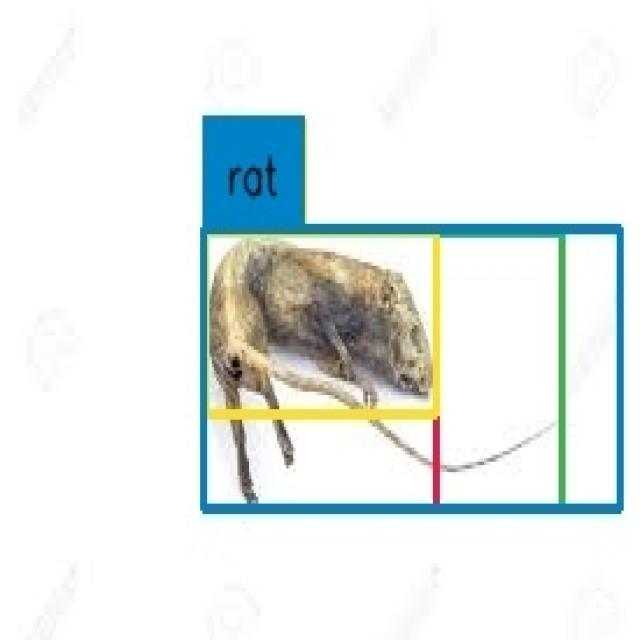rat: (203, 230, 619, 510), (202, 232, 561, 509), (204, 232, 436, 509), (206, 230, 436, 412)
